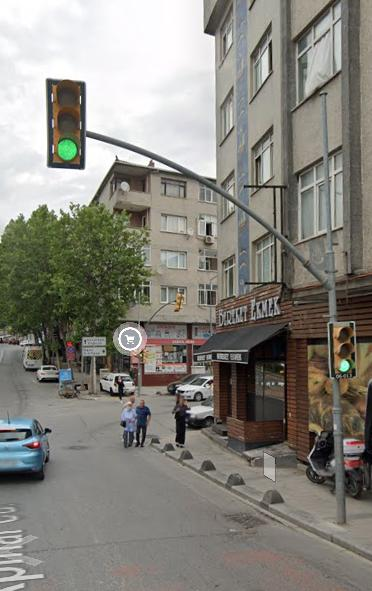greenlight: (47, 78, 88, 169), (329, 321, 355, 377)
